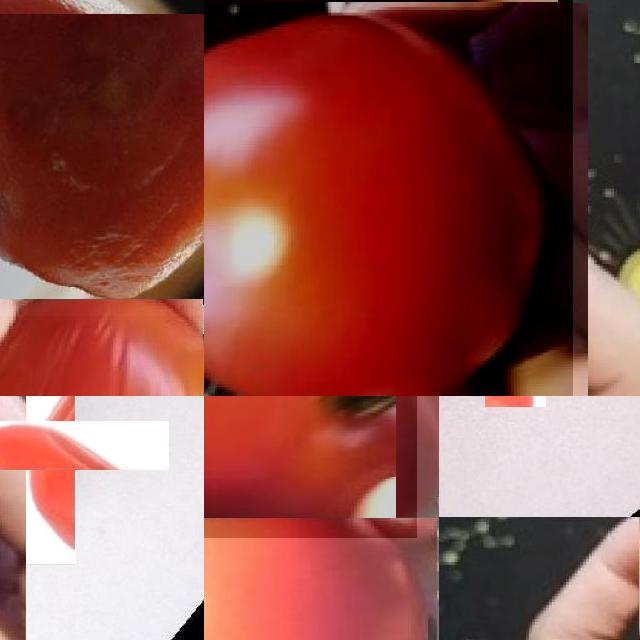1: (0, 0, 204, 320), (0, 316, 204, 396)
Fresh Tomato: (204, 0, 573, 396), (204, 396, 417, 538), (204, 517, 439, 640)
Rotten Tomato: (0, 396, 122, 517)
